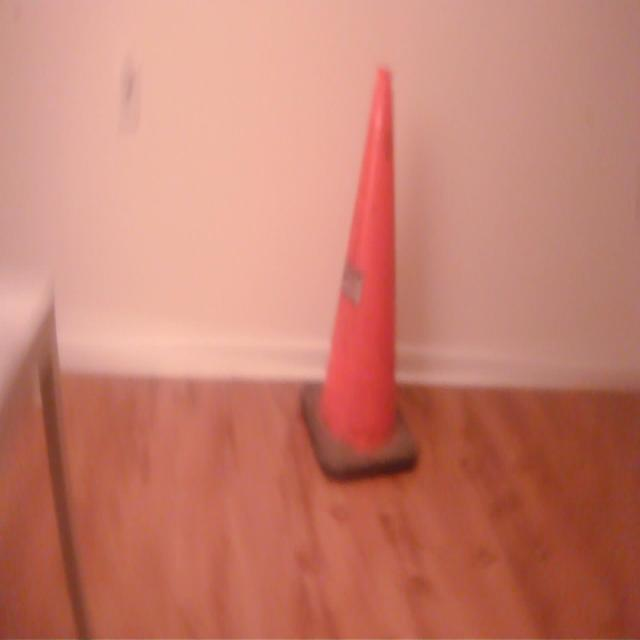traffic cone: (297, 60, 425, 492)
